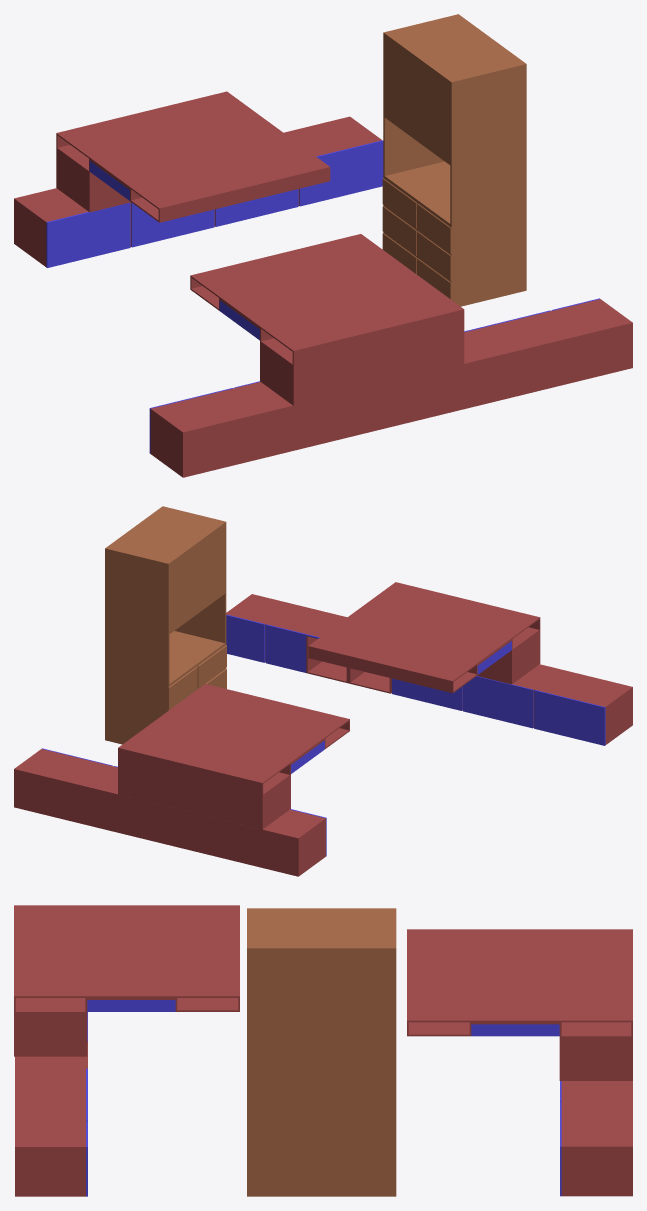
Rendered from Diseno.FBX.
3 renders of one model, top to bottom at view 1: azimuth 30°, elevation 25°; view 2: azimuth 150°, elevation 25°; view 3: azimuth 270°, elevation 25°, orthographic. The views are drawn at different scales.
Parts seen in each view (by area): view 1: DisenoComu00, DisenoComu04, DisenoComu03, DisenoComu01, DisenoComu02; view 2: DisenoComu00, DisenoComu01, DisenoComu04, DisenoComu03, DisenoComu02; view 3: DisenoComu00, DisenoComu01, DisenoComu03, DisenoComu04, DisenoComu02.
Part boxes in pixels (x1=…): DisenoComu00: x1=382, y1=14, x2=526, y2=306; DisenoComu04: x1=149, y1=298, x2=632, y2=477; DisenoComu03: x1=190, y1=234, x2=464, y2=405; DisenoComu01: x1=56, y1=91, x2=330, y2=222; DisenoComu02: x1=14, y1=116, x2=383, y2=267; DisenoComu00: x1=105, y1=506, x2=226, y2=744; DisenoComu01: x1=118, y1=684, x2=349, y2=829; DisenoComu04: x1=226, y1=594, x2=632, y2=745; DisenoComu03: x1=308, y1=582, x2=540, y2=693; DisenoComu02: x1=14, y1=748, x2=326, y2=876; DisenoComu00: x1=247, y1=908, x2=396, y2=1196; DisenoComu01: x1=407, y1=929, x2=632, y2=1080; DisenoComu03: x1=14, y1=905, x2=239, y2=1056; DisenoComu04: x1=15, y1=1012, x2=87, y2=1196; DisenoComu02: x1=560, y1=1081, x2=632, y2=1196.
Bounding box in the file's own units: 312 × 150 × 339.
